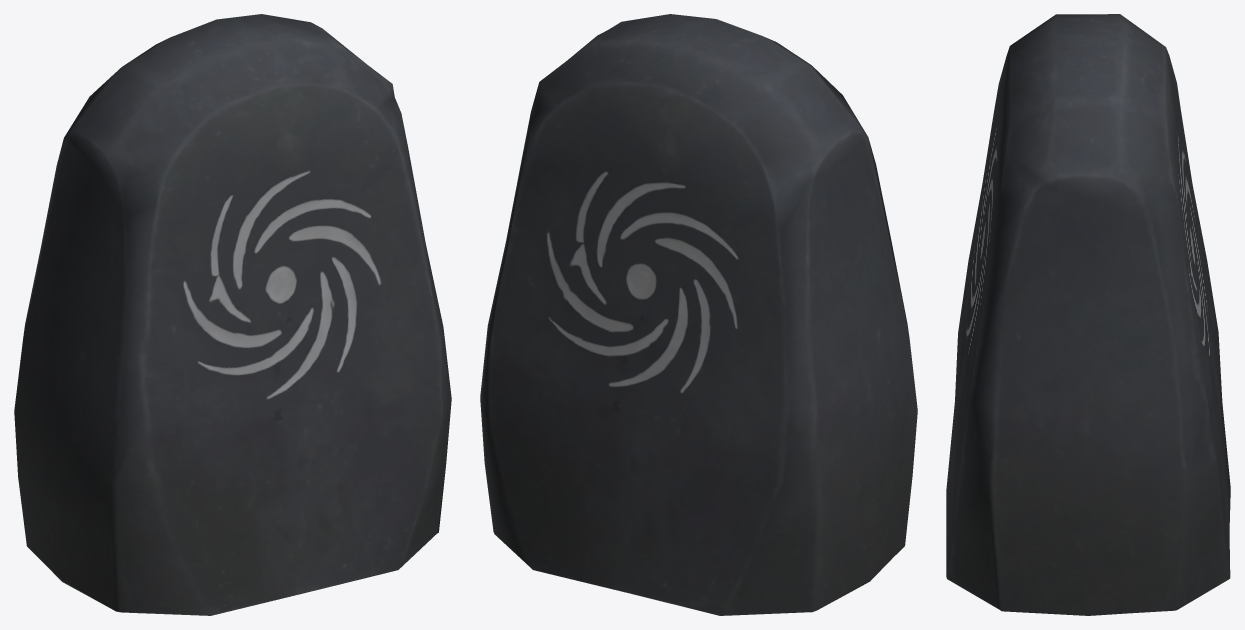
File: Meshy_AI_Cloudbound_Monolith_20261128_texture.fbx
The picture shows the model from 3 angles, left to right: view 1: azimuth 30°, elevation 25°; view 2: azimuth 150°, elevation 25°; view 3: azimuth 270°, elevation 25°; orthographic projection. The views are drawn at different scales.
Parts seen in each view (by area): view 1: geometry_0; view 2: geometry_0; view 3: geometry_0.
Part boxes in pixels (x1,y1,x2,y2): geometry_0: (14, 14, 451, 615); geometry_0: (480, 14, 917, 615); geometry_0: (946, 14, 1230, 615).
Bounding box in the file's own units: 73.7 × 100 × 51.53.
1 material, 1 textured.
